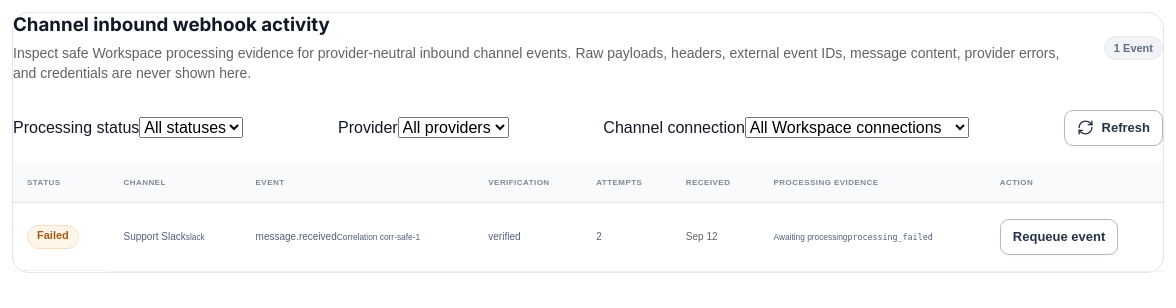
Test case: ChannelWebhookEventsPanel › lets an admin requeue only a server-approved replayable failure and reloads evidence
The image size is (1176, 308).
expect the text "Support Slack" is shown: met, box [124,231,186,242]
Click the button "Requeue event" at (1059, 237), box [1000,219,1118,255]
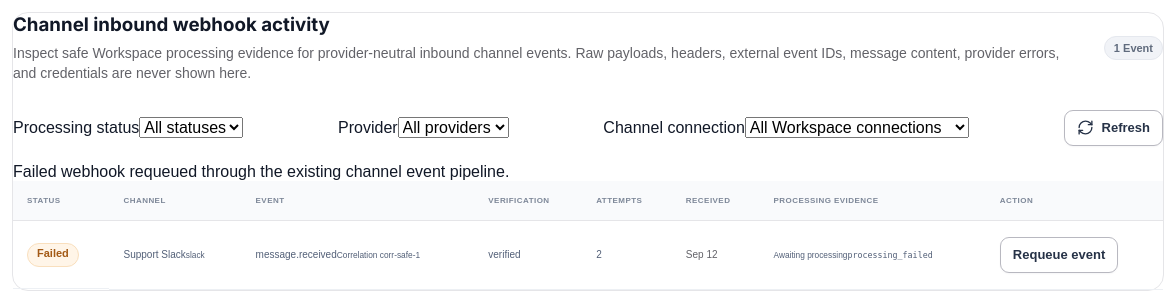
expect the message reads "Failed webhook requeued through the existing channel event pipeline.": met, box [13,163,509,180]
